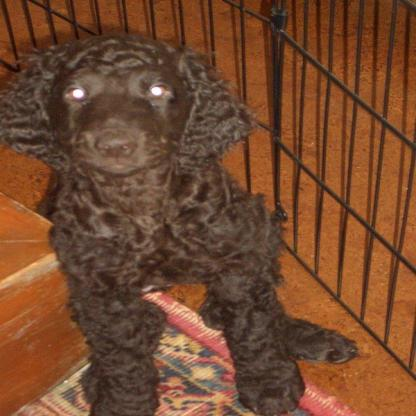Irish_water_spaniel: (4, 32, 356, 414)
